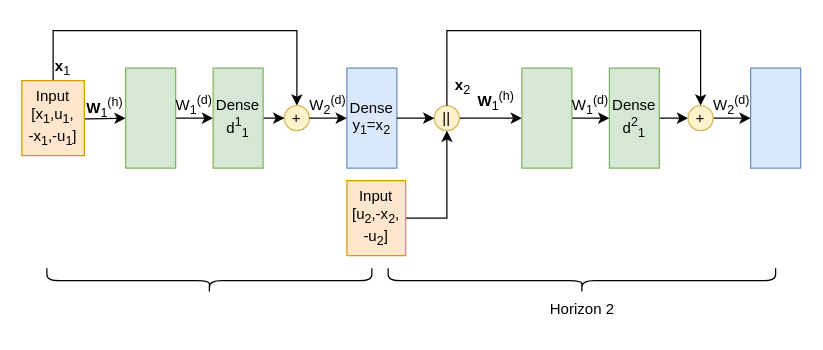
Some shapes in this 823 by 350 pixel diagram are drawn without their labels. Here are the shapes that lost their labels. From the top down, the centre of each, then its label:
At pixel 150 117: "LSTM h 1 1".
At pixel 546 117: "LSTM h 2 1".
At pixel 775 117: "Dense y 2".
At pixel 209 280: "Horizon 1".
